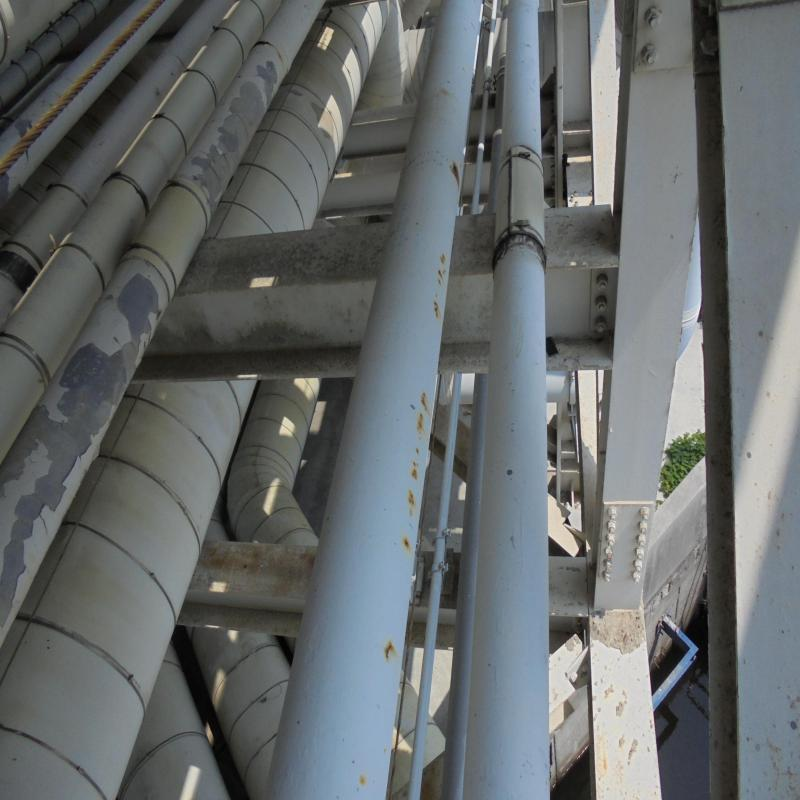corrosion: (409, 456, 420, 544), (416, 394, 431, 435), (446, 160, 466, 186), (386, 638, 399, 665), (429, 298, 444, 320), (437, 250, 449, 270)
